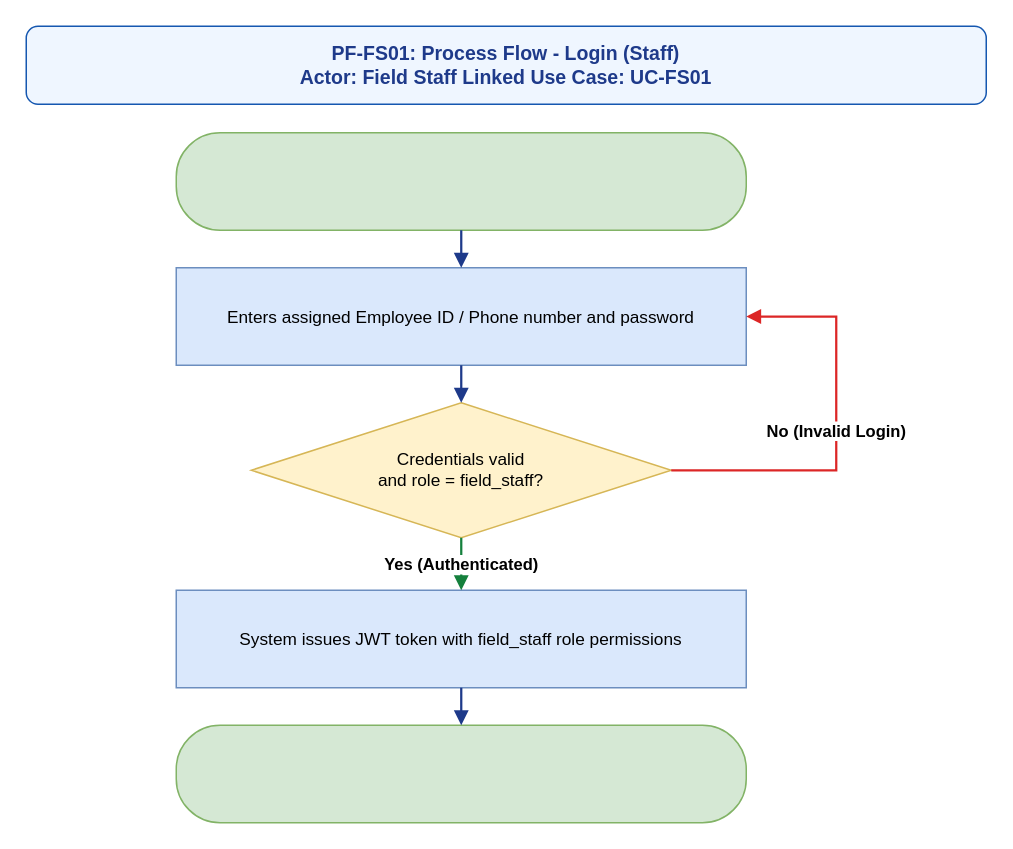
The diagram is 1013 pixels wide and 849 high, and some of its shapes have lost their labels. The centre of each missing label's shape, as x and y in pixels:
END: Staff Scanner Screen loaded with active distribution events: point 460,773
START: Field Staff opens StaffLoginScreen: point 460,180
